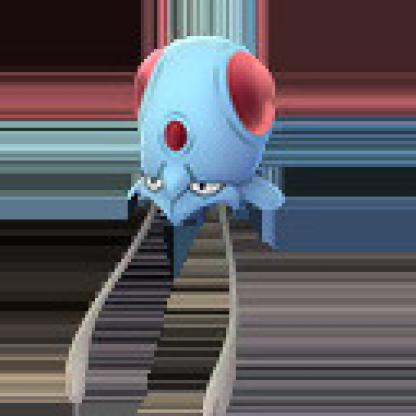Tentacool: (63, 34, 286, 414)
